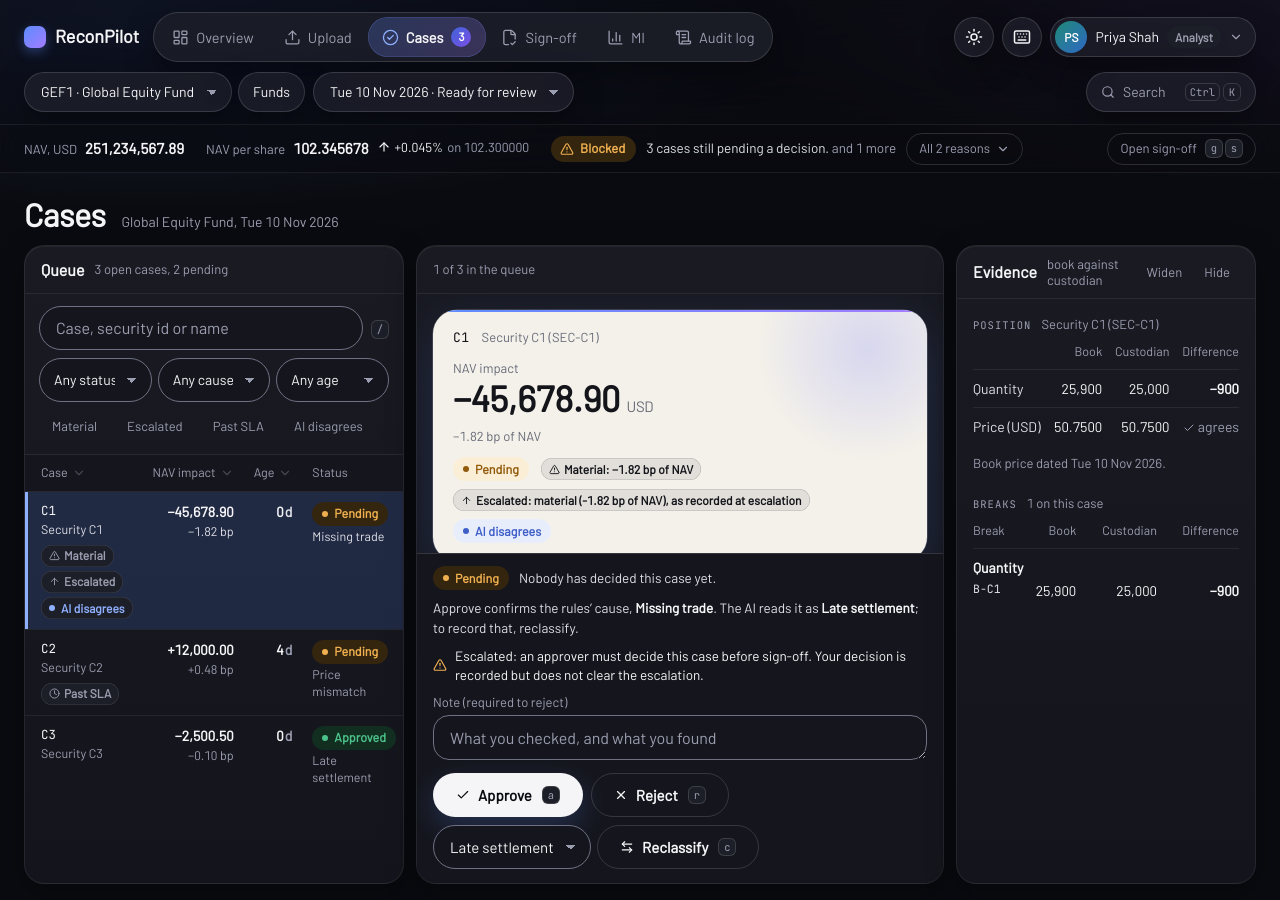
Scenario: case workbench › reclassifies to the cause picked, offering the AI's reading first
Select "Dividend" in the dropdown named "Reclassify as" below "Note". click: (512, 847)
box: [433,825,591,869]
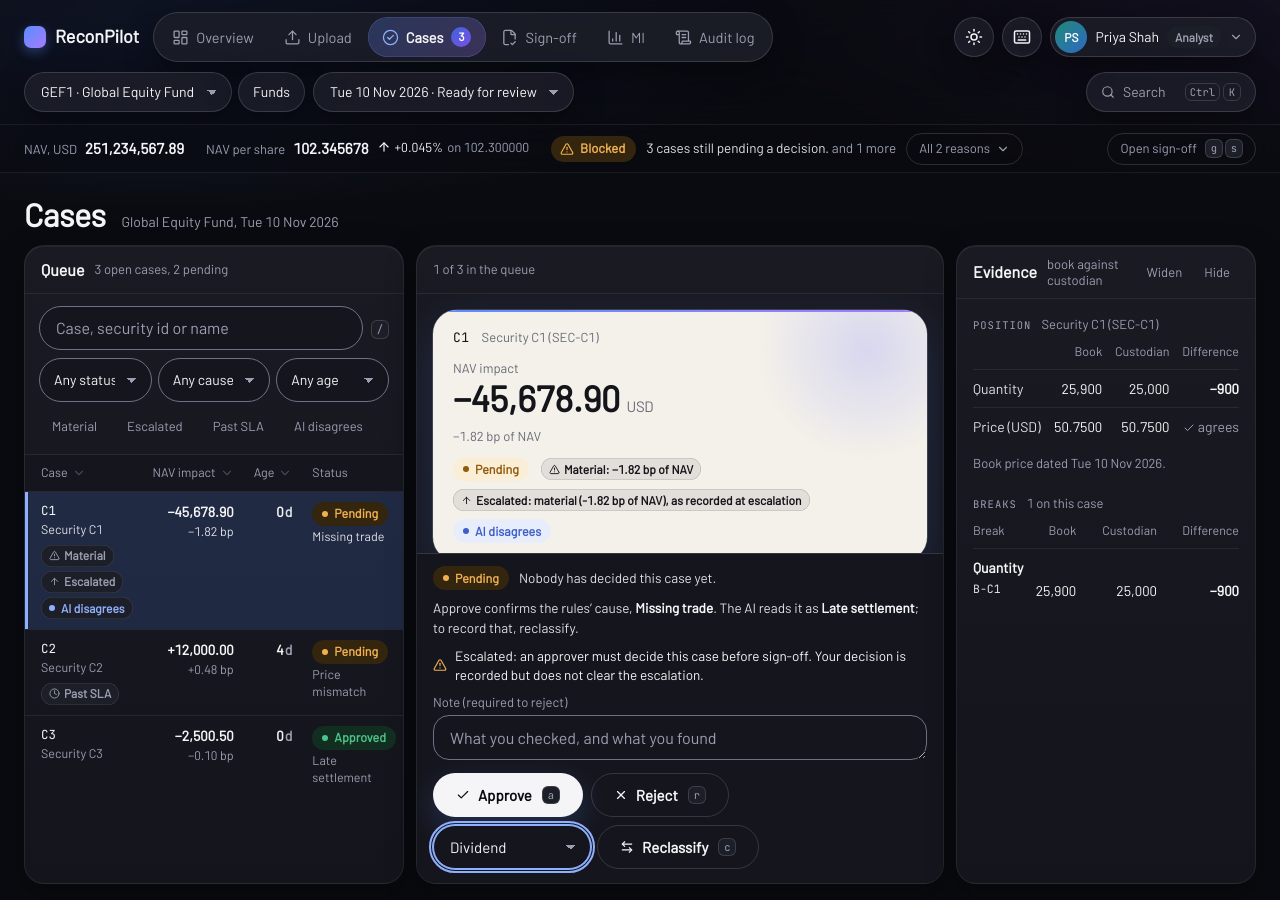
Click the button "Reclassify c". click: click(678, 847)
box: [597,825,759,869]
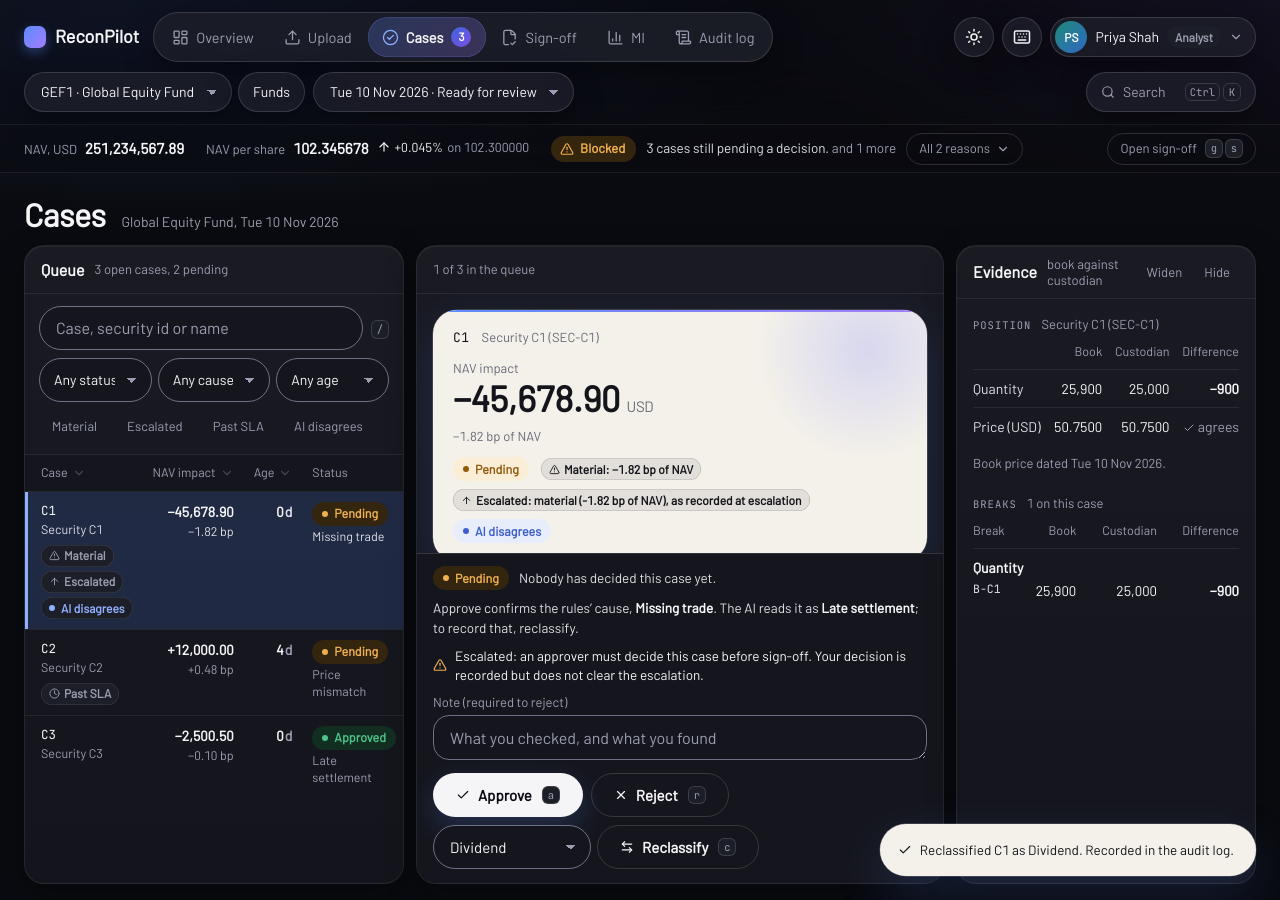
Now the text "Reclassified C1 as Dividend. Recorded in the audit log." is shown, box [880,824,1256,876]
